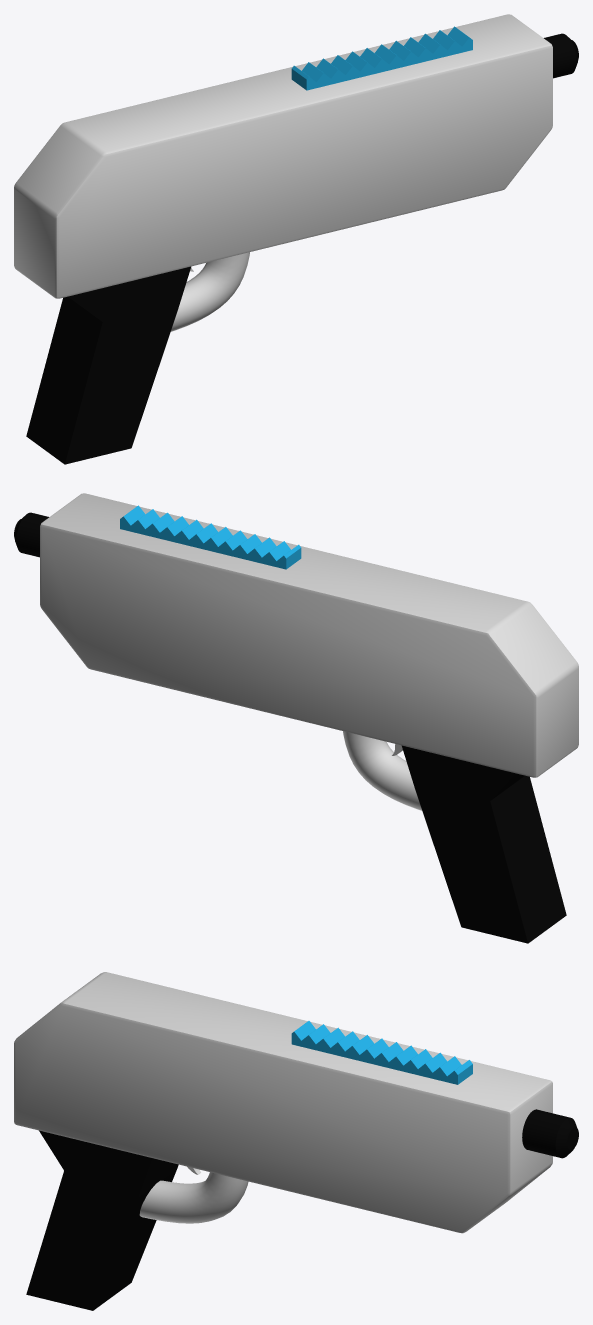
The model's file is gun.glb.
The picture shows the model from 3 angles, top to bottom: view 1: azimuth 30°, elevation 25°; view 2: azimuth 150°, elevation 25°; view 3: azimuth 330°, elevation 25°; orthographic projection.
Visible parts, largest first — view 1: Cube, Cube.001, Cube.002, BezierCurve, Cylinder; view 2: Cube, Cube.001, Cube.002, BezierCurve, Cylinder; view 3: Cube, Cube.001, Cube.002, BezierCurve, Cylinder.
Part boxes in pixels (x1=…): Cube: x1=14, y1=14, x2=552, y2=298; Cube.001: x1=26, y1=266, x2=191, y2=464; Cube.002: x1=291, y1=26, x2=472, y2=90; BezierCurve: x1=170, y1=252, x2=249, y2=331; Cylinder: x1=544, y1=33, x2=578, y2=78; Cube: x1=40, y1=493, x2=578, y2=777; Cube.001: x1=401, y1=745, x2=566, y2=943; Cube.002: x1=120, y1=505, x2=301, y2=569; BezierCurve: x1=343, y1=731, x2=422, y2=810; Cylinder: x1=14, y1=512, x2=48, y2=557; Cube: x1=14, y1=972, x2=552, y2=1233; Cube.001: x1=26, y1=1130, x2=178, y2=1310; Cube.002: x1=291, y1=1021, x2=472, y2=1084; BezierCurve: x1=139, y1=1172, x2=248, y2=1223; Cylinder: x1=522, y1=1109, x2=576, y2=1158.
Size of the model in its own units: 2.16 by 1.22 by 0.3054.
